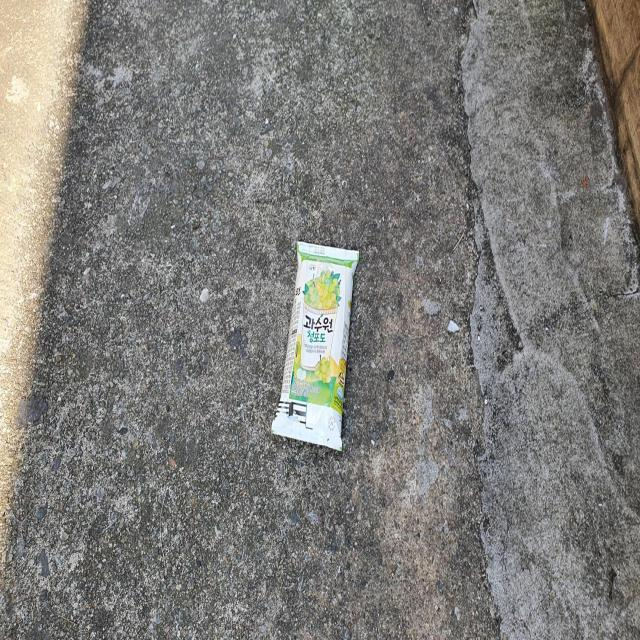paperpack: (271, 241, 359, 450)
